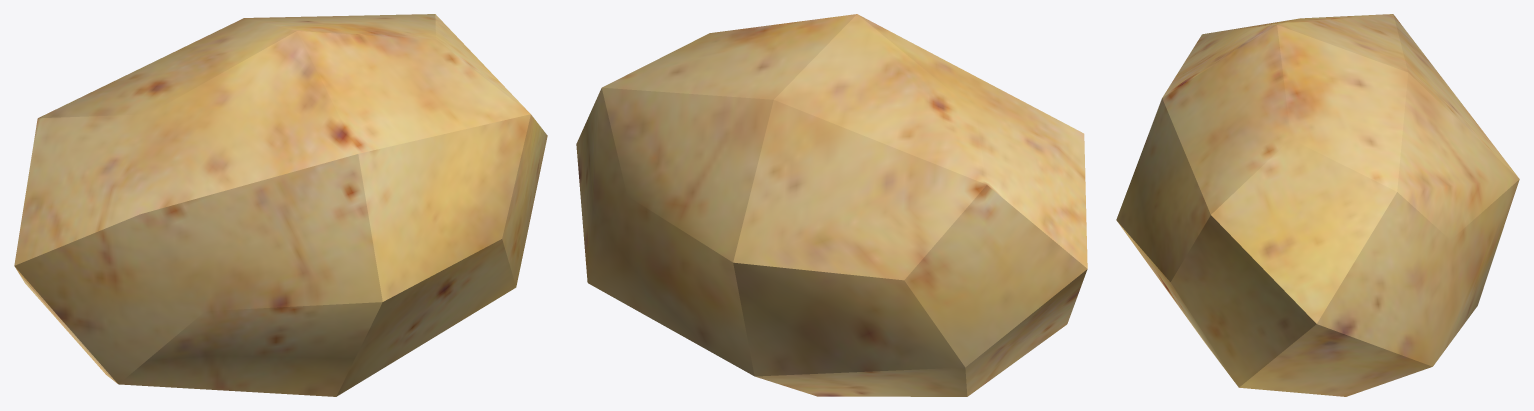
File: Potato_single.fbx
The picture shows the model from 3 angles, left to right: view 1: azimuth 30°, elevation 25°; view 2: azimuth 150°, elevation 25°; view 3: azimuth 270°, elevation 25°; orthographic projection. The views are drawn at different scales.
Visible parts, largest first — view 1: Potato_single; view 2: Potato_single; view 3: Potato_single.
Boxes of the visible parts, x1=… form: Potato_single: x1=14, y1=14, x2=547, y2=396; Potato_single: x1=576, y1=14, x2=1087, y2=396; Potato_single: x1=1116, y1=14, x2=1519, y2=396.
Bounding box in the file's own units: 0.1545 × 0.1021 × 0.1081.
